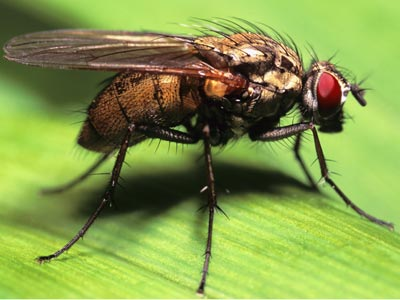phorid fly: (2, 12, 400, 295)
